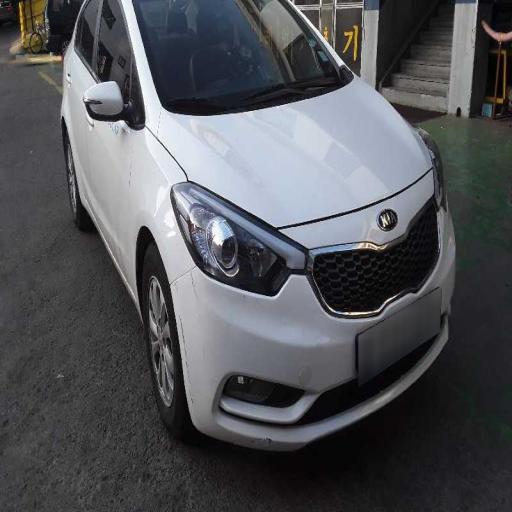dent: (138, 93, 410, 261)
